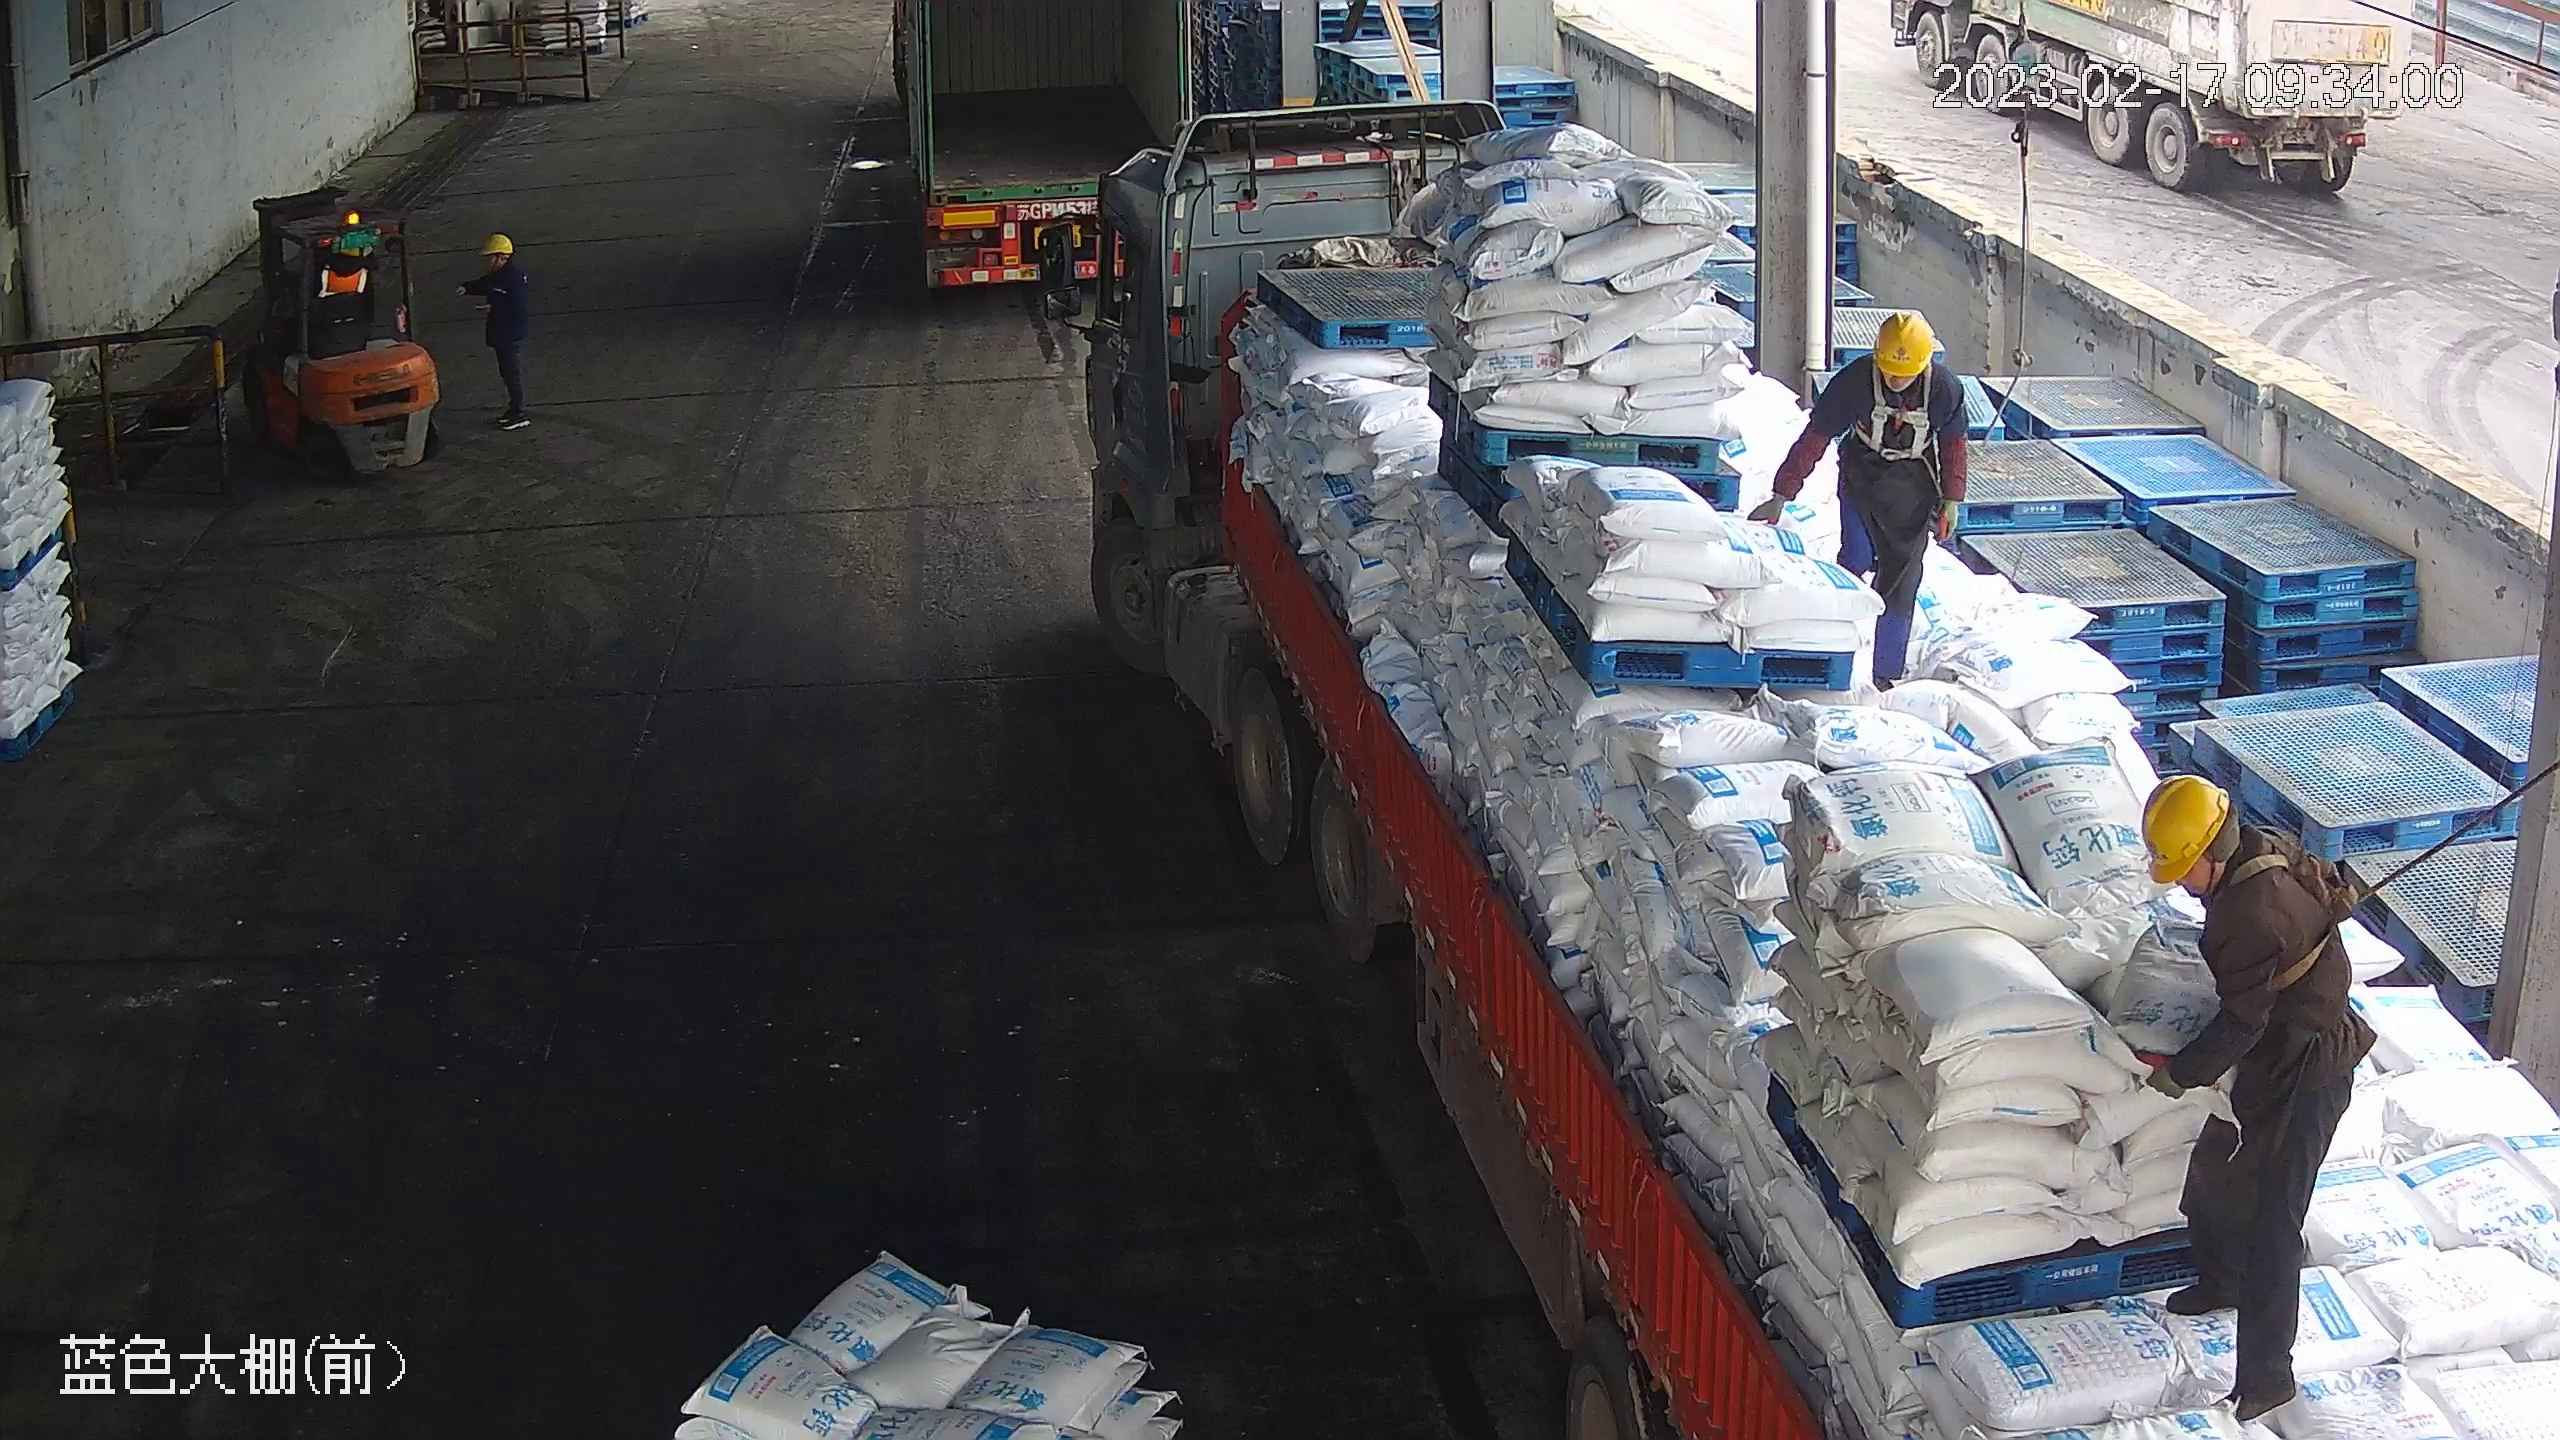belt: (2218, 838, 2363, 989), (1857, 361, 1934, 460)
head: (2135, 771, 2339, 947), (1825, 306, 1963, 413), (476, 230, 527, 289)
helmet: (2139, 769, 2233, 885), (1870, 308, 1934, 378), (481, 231, 514, 256)
people: (2125, 769, 2378, 1430), (1745, 304, 1975, 696), (456, 229, 533, 433)
truck: (1044, 121, 2550, 1439), (885, 1, 1196, 294)
